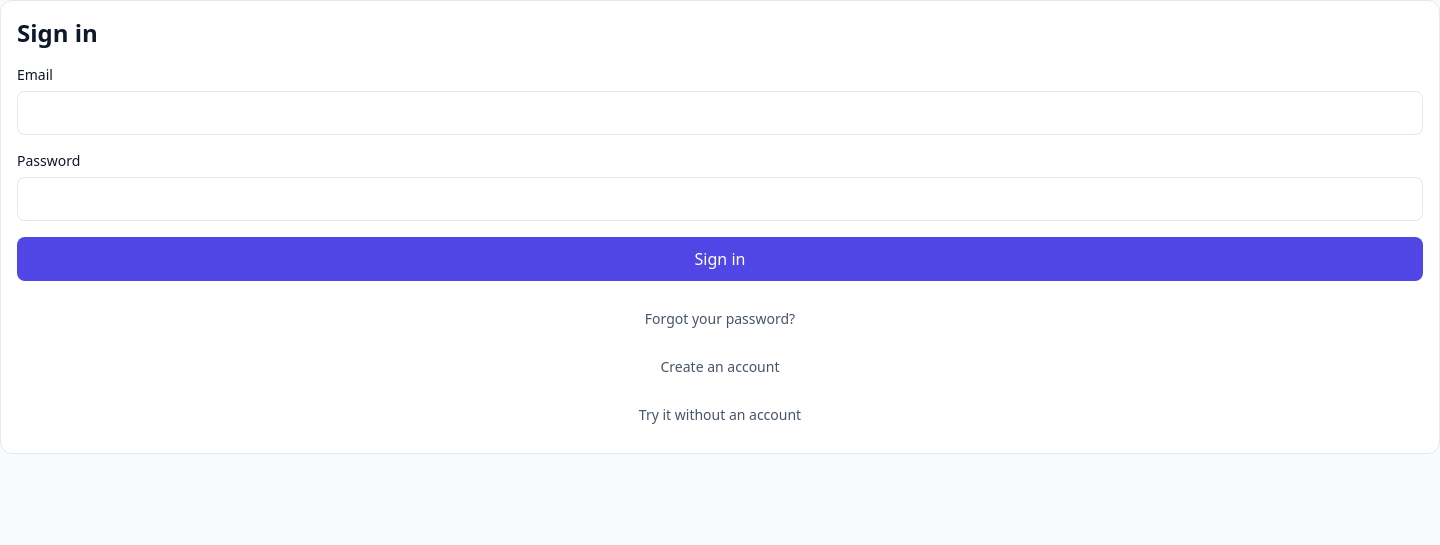
Test case: AuthForm › asks people to check their inbox when email confirmation is on
Click the button "Create an account" at (720, 367), box [644,345,796,389]
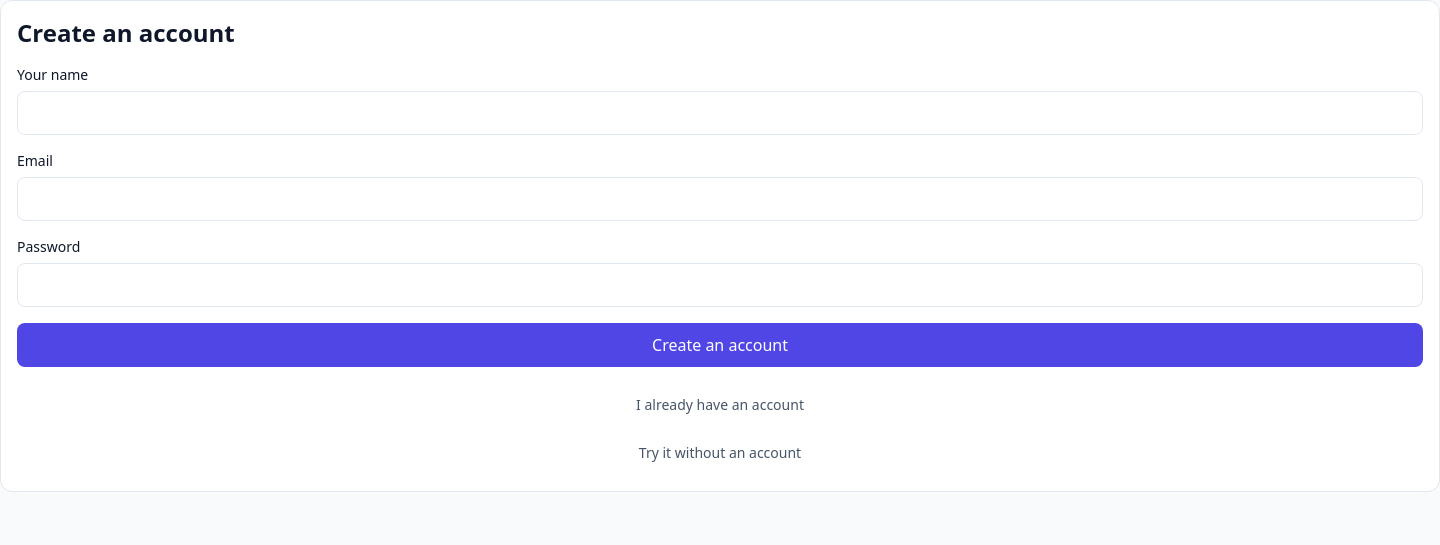
Type "Sam" into the field labelled "Your name" at (720, 113), box [17,91,1423,135]
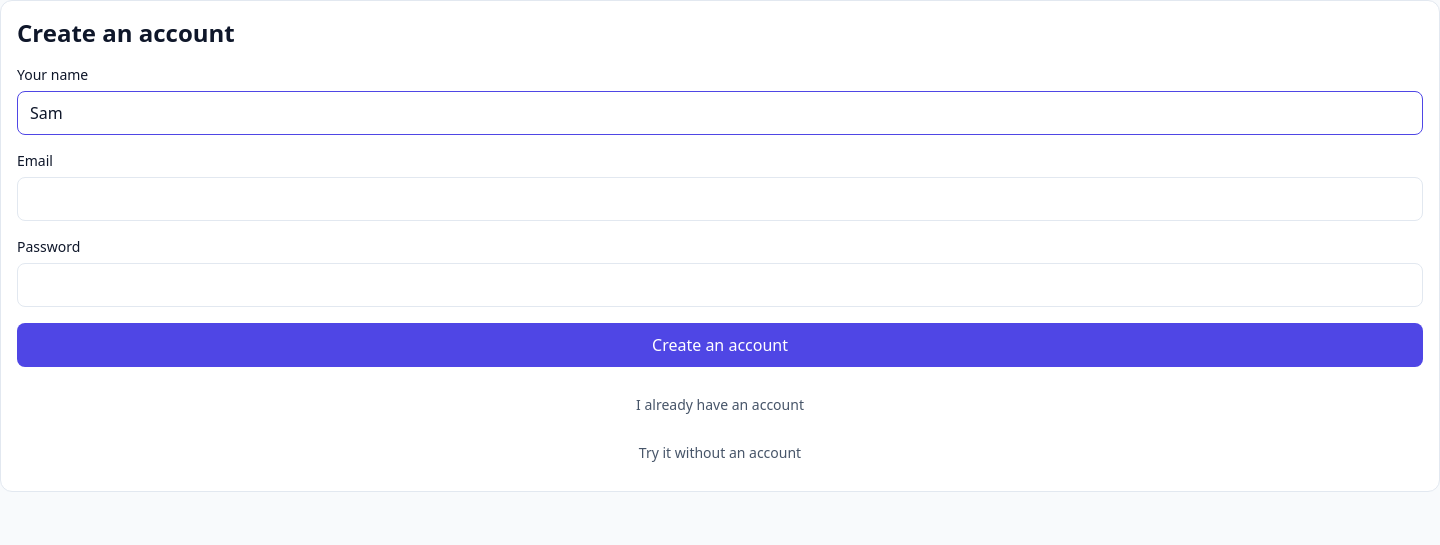
Type "sam@example.com" into the field labelled "Email" at (720, 199), box [17,177,1423,221]
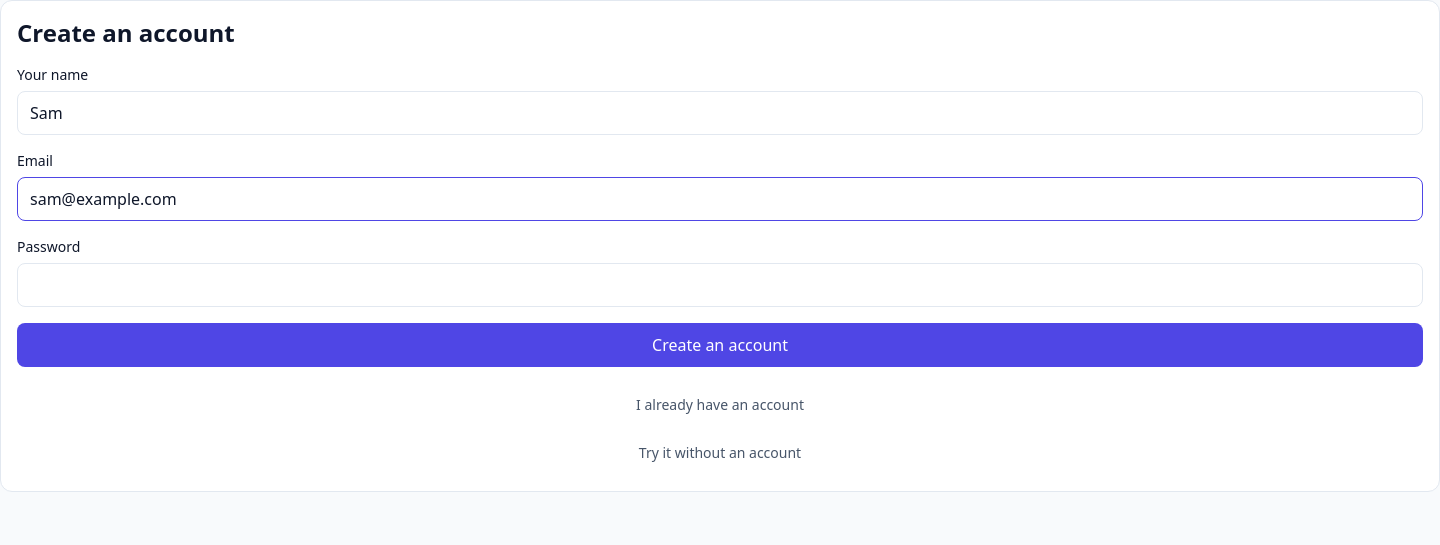
Type "correct-horse" into the password field labelled "Password" at (720, 285), box [17,263,1423,307]
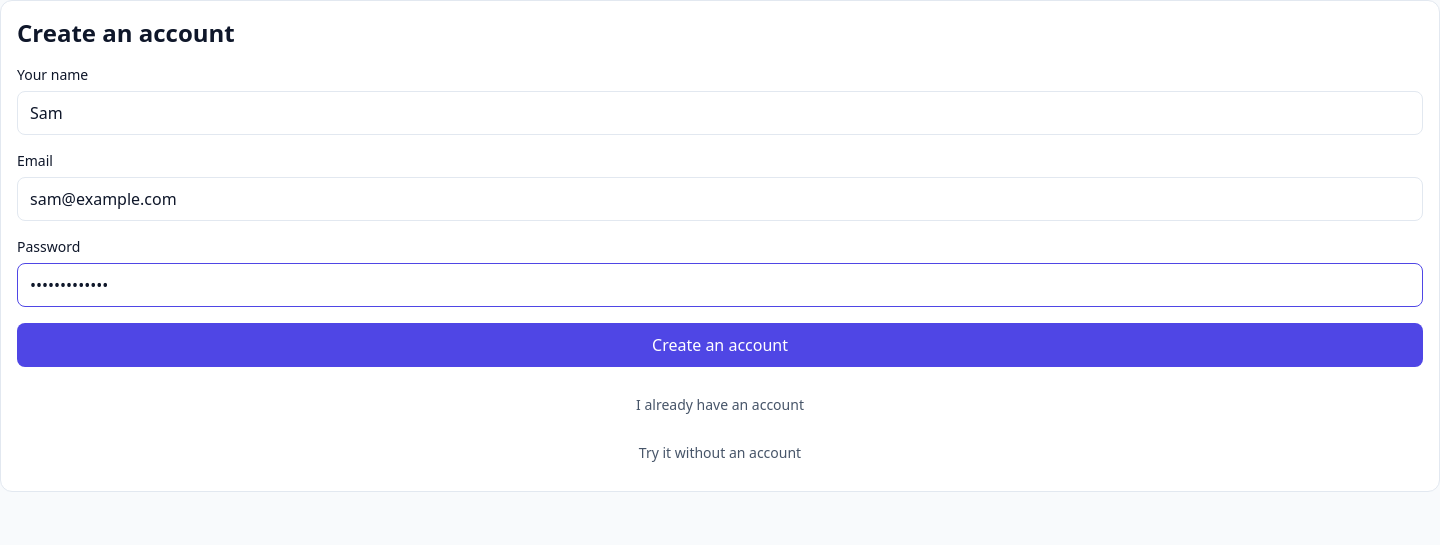
Click the button "Create an account" at (720, 345), box [17,323,1423,367]
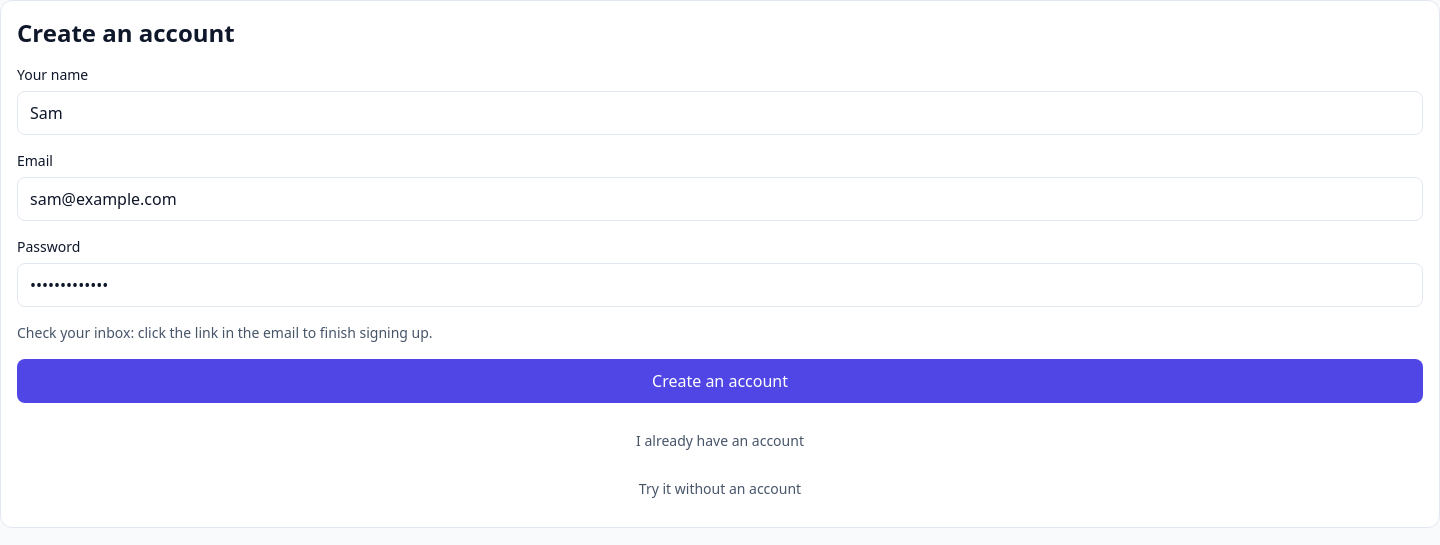
Result: the message shows "Check your inbox" at [17,323,433,342]
